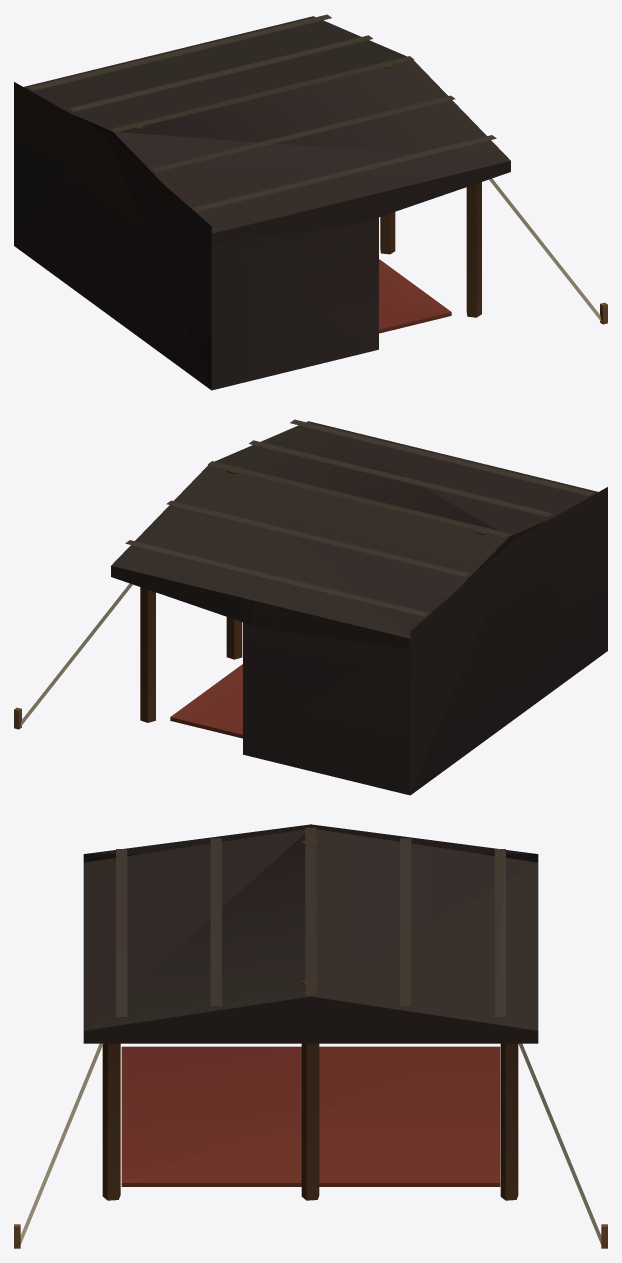
Rendered from tent.glb.
3 renders of one model, top to bottom at view 1: azimuth 30°, elevation 25°; view 2: azimuth 150°, elevation 25°; view 3: azimuth 270°, elevation 25°, orthographic. The views are drawn at different scales.
Visible parts, largest first — view 1: base; view 2: base; view 3: base.
Part boxes in pixels (x1,y1,x2,y2): base: [14, 14, 607, 390]; base: [14, 419, 607, 795]; base: [14, 824, 607, 1248].
Bounding box in the file's own units: 1.05 × 0.5036 × 1.25.
